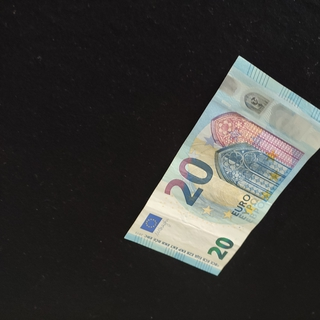20EUROFront: (122, 54, 320, 276)
